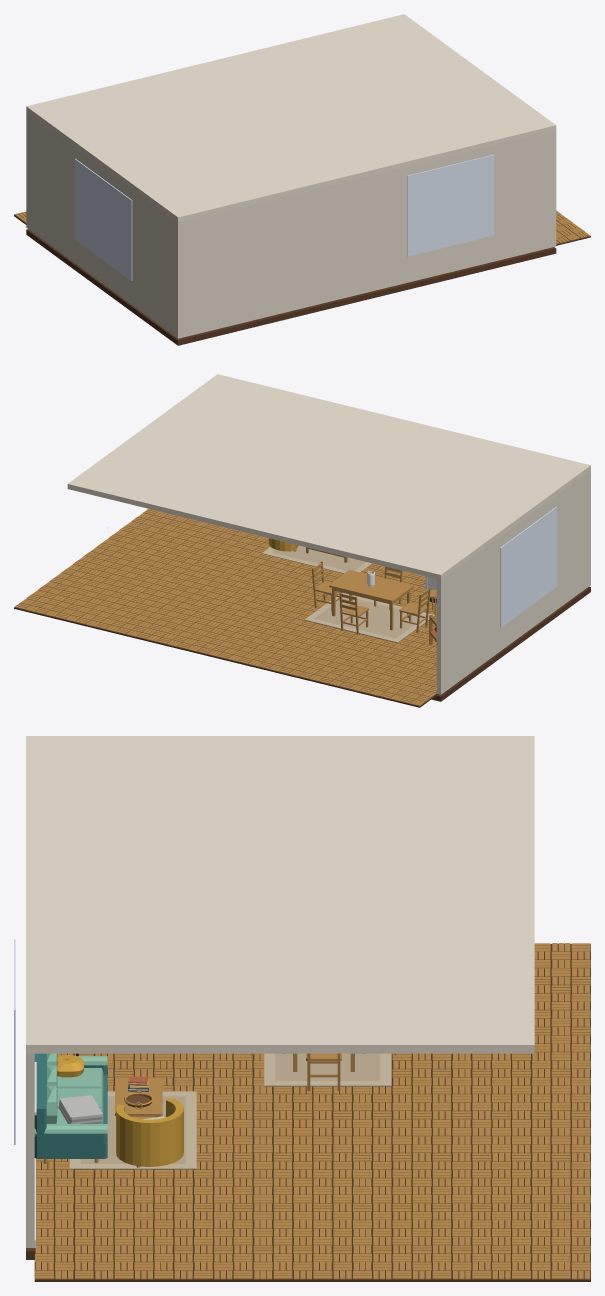
File: SM_LPI_Room_Openplan.fbx
3 views of the same model, one above another, from view 1: azimuth 30°, elevation 25°; view 2: azimuth 150°, elevation 25°; view 3: azimuth 270°, elevation 25° (orthographic). The views are drawn at different scales.
Visible parts, largest first — view 1: SM_LPI_Room_OpenPlan, SM_LPI_Room_OpenPlanGlass, SM_LPI_Floor_ParquetOak_02.064; view 2: SM_LPI_Room_OpenPlan, SM_LPI_Room_OpenPlanGlass, SM_LPI_Text_RugRect_01.001, SM_LPI_Table_Dining_01.001, SM_LPI_Text_RugRect_01.002, SM_LPI_Floor_ParquetOak_02.049, SM_LPI_Floor_ParquetOak_02.056, SM_LPI_Floor_ParquetOak_02.070, SM_LPI_Floor_ParquetOak_02.007, SM_LPI_Floor_ParquetOak_02.014, SM_LPI_Floor_ParquetOak_02.042, SM_LPI_Floor_ParquetOak_02.063 (+39 smaller); view 3: SM_LPI_Room_OpenPlan, SM_LPI_Seat_Sofa_02.001, SM_LPI_Text_RugRect_01.001, SM_LPI_Seat_Armchair_03.001, SM_LPI_Floor_ParquetOak_02.065, SM_LPI_Floor_ParquetOak_02.068, SM_LPI_Floor_ParquetOak_02.070, SM_LPI_Floor_ParquetOak_02.066, SM_LPI_Floor_ParquetOak_02.067, SM_LPI_Floor_ParquetOak_02.069, SM_LPI_Floor_ParquetOak_02.064, SM_LPI_Text_RugRect_01.002 (+42 smaller).
Boxes of the visible parts, <box> form: SM_LPI_Room_OpenPlan: <box>26,14,556,345</box>; SM_LPI_Room_OpenPlanGlass: <box>74,154,493,280</box>; SM_LPI_Floor_ParquetOak_02.064: <box>556,218,590,245</box>; SM_LPI_Room_OpenPlan: <box>67,374,590,701</box>; SM_LPI_Room_OpenPlanGlass: <box>500,506,557,627</box>; SM_LPI_Text_RugRect_01.001: <box>305,592,435,642</box>; SM_LPI_Table_Dining_01.001: <box>329,570,413,630</box>; SM_LPI_Text_RugRect_01.002: <box>261,545,372,573</box>; SM_LPI_Floor_ParquetOak_02.049: <box>135,619,199,648</box>; SM_LPI_Floor_ParquetOak_02.056: <box>95,610,158,638</box>; SM_LPI_Floor_ParquetOak_02.070: <box>14,590,77,618</box>; SM_LPI_Floor_ParquetOak_02.007: <box>379,679,437,707</box>; SM_LPI_Floor_ParquetOak_02.014: <box>338,669,402,697</box>; SM_LPI_Floor_ParquetOak_02.042: <box>176,629,239,658</box>; SM_LPI_Floor_ParquetOak_02.063: <box>54,600,117,628</box>; SM_LPI_Room_OpenPlan: <box>26,736,534,1259</box>; SM_LPI_Seat_Sofa_02.001: <box>34,1053,107,1163</box>; SM_LPI_Text_RugRect_01.001: <box>264,1053,391,1086</box>; SM_LPI_Seat_Armchair_03.001: <box>116,1098,183,1167</box>; SM_LPI_Floor_ParquetOak_02.065: <box>114,1245,193,1281</box>; SM_LPI_Floor_ParquetOak_02.068: <box>352,1245,431,1281</box>; SM_LPI_Floor_ParquetOak_02.070: <box>511,1245,590,1281</box>; SM_LPI_Floor_ParquetOak_02.066: <box>193,1245,272,1281</box>; SM_LPI_Floor_ParquetOak_02.067: <box>273,1245,352,1281</box>; SM_LPI_Floor_ParquetOak_02.069: <box>432,1245,511,1281</box>; SM_LPI_Floor_ParquetOak_02.064: <box>34,1245,113,1281</box>; SM_LPI_Text_RugRect_01.002: <box>69,1091,196,1169</box>.
Bounding box in the file's own units: 10.26 × 2.98 × 7.26.
